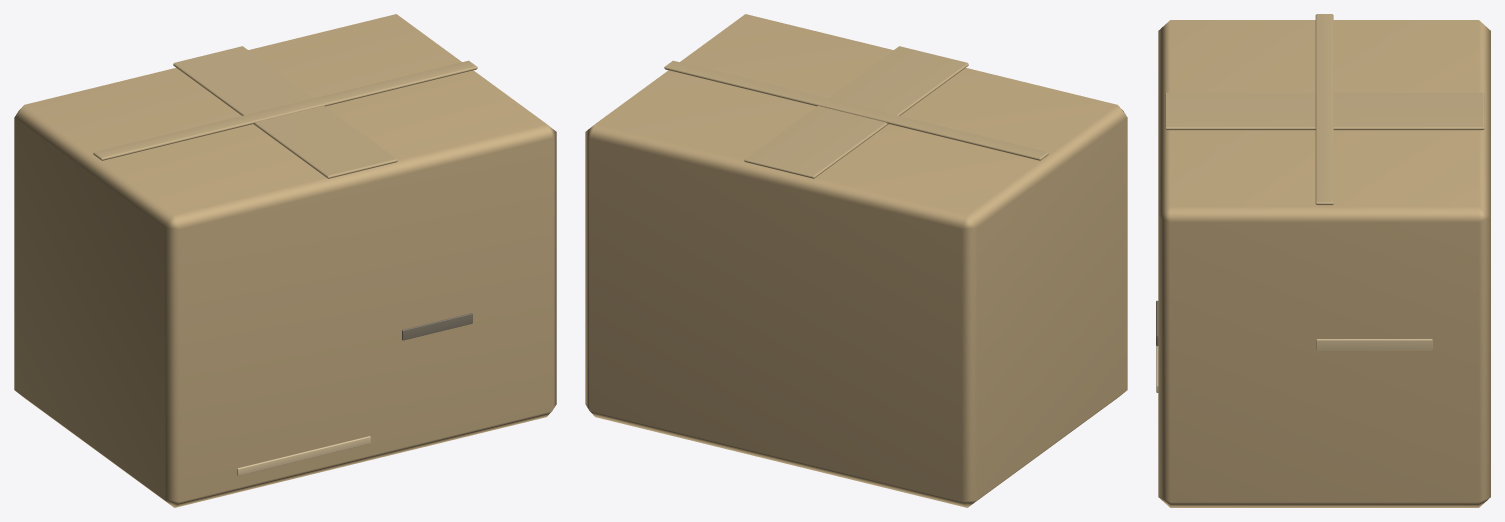
File: Box_Large_A.glb
3 views of the same model, side by side, from view 1: azimuth 30°, elevation 25°; view 2: azimuth 150°, elevation 25°; view 3: azimuth 270°, elevation 25° (orthographic). The views are drawn at different scales.
Parts seen in each view (by area): view 1: Box_Large_A_body, Box_Large_A_top_tape_long, Box_Large_A_top_tape_cross, Box_Large_A_front_bottom_wear, Box_Large_A_small_scuff; view 2: Box_Large_A_body, Box_Large_A_top_tape_long, Box_Large_A_top_tape_cross; view 3: Box_Large_A_body, Box_Large_A_top_tape_long, Box_Large_A_top_tape_cross, Box_Large_A_side_edge_wear.
Part boxes in pixels (bbox=[...]): Box_Large_A_body: bbox=[14, 14, 556, 507]; Box_Large_A_top_tape_long: bbox=[173, 46, 397, 178]; Box_Large_A_top_tape_cross: bbox=[93, 60, 477, 160]; Box_Large_A_front_bottom_wear: bbox=[237, 436, 370, 475]; Box_Large_A_small_scuff: bbox=[402, 313, 472, 340]; Box_Large_A_body: bbox=[585, 14, 1127, 507]; Box_Large_A_top_tape_long: bbox=[744, 46, 968, 178]; Box_Large_A_top_tape_cross: bbox=[664, 60, 1048, 160]; Box_Large_A_body: bbox=[1158, 20, 1490, 507]; Box_Large_A_top_tape_long: bbox=[1165, 92, 1484, 130]; Box_Large_A_top_tape_cross: bbox=[1315, 14, 1333, 205]; Box_Large_A_side_edge_wear: bbox=[1316, 339, 1432, 350].
Size of the model in its own units: 0.7034 by 0.509 by 0.5035.
